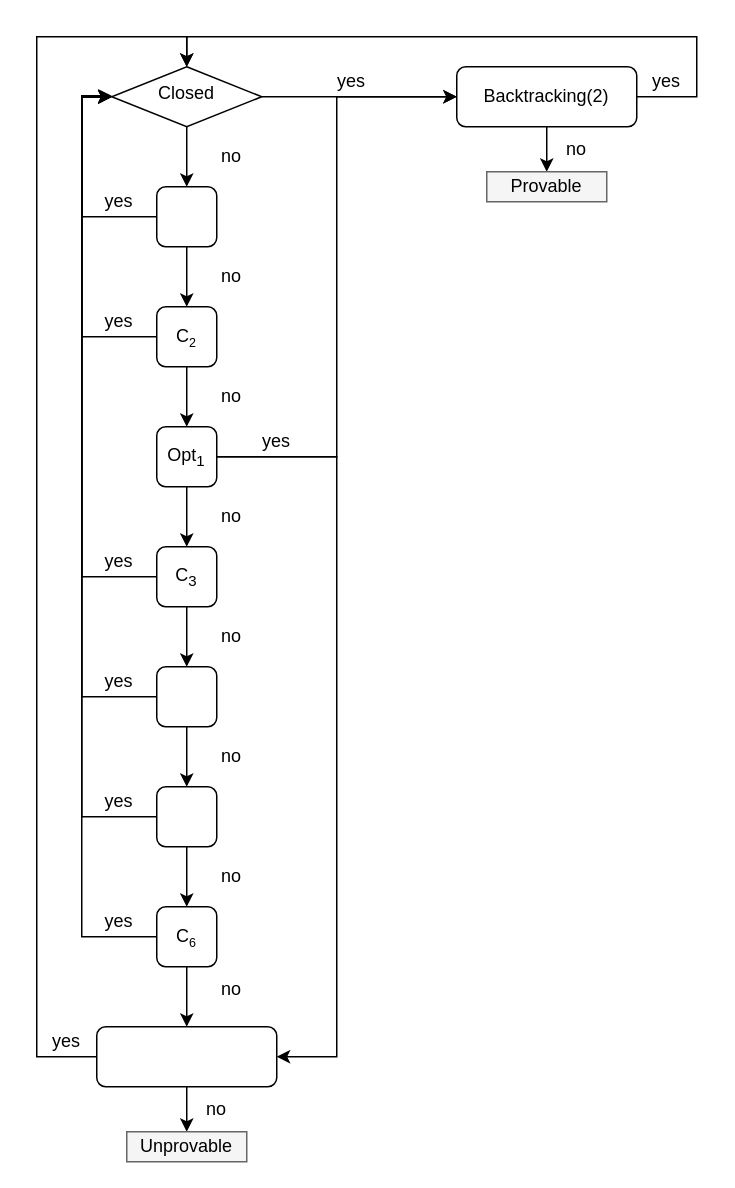
This 735x1188 diagram has some shape labels left out. Here are the shapes that lost their labels. From the top down, the centre of each, then its label:
At point 186,216: "C 1".
At point 186,696: "C 4".
At point 186,816: "C 5".
At point 186,1056: "Backtracking(3,4)".
